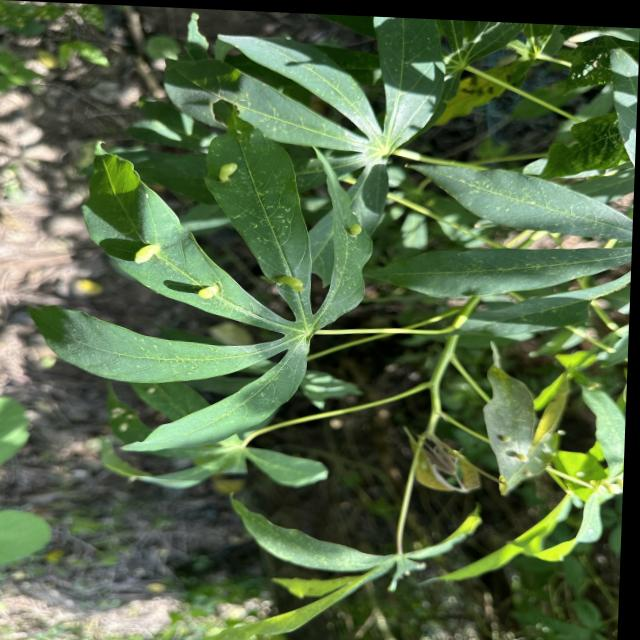Mosca: (189, 269, 246, 317), (496, 430, 545, 483), (70, 273, 116, 310), (275, 254, 307, 305), (131, 236, 167, 278), (200, 157, 241, 190), (334, 207, 372, 242), (109, 403, 140, 435), (132, 381, 164, 403)
